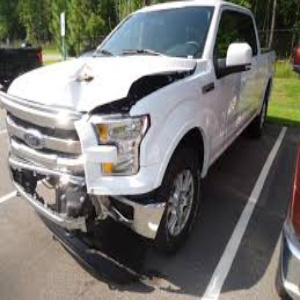bonnet: (64, 49, 142, 108)
bumper: (53, 194, 163, 245)
